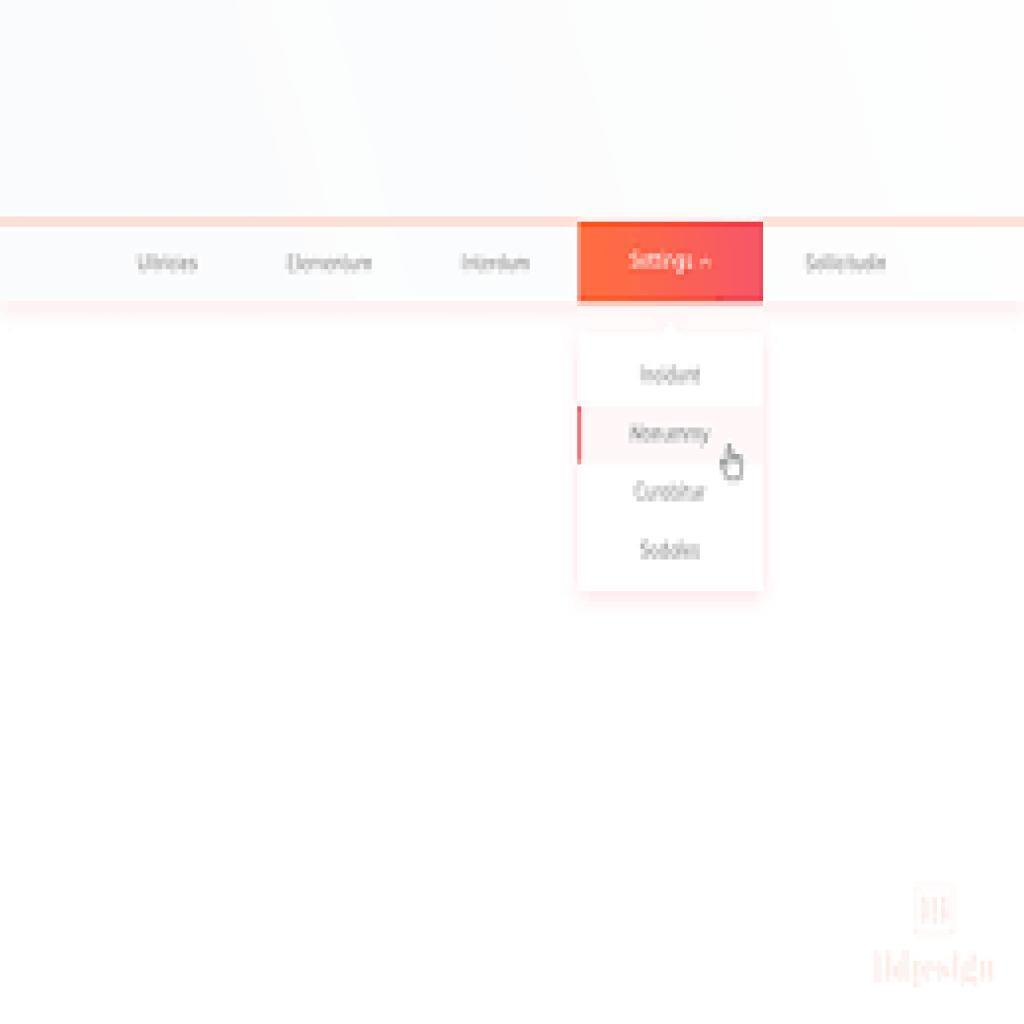dropdown: (579, 223, 762, 302)
label: (797, 247, 893, 277), (632, 472, 707, 508), (131, 248, 202, 281), (637, 535, 706, 568), (625, 421, 716, 446), (638, 360, 710, 391), (287, 254, 376, 276), (461, 255, 543, 277)
